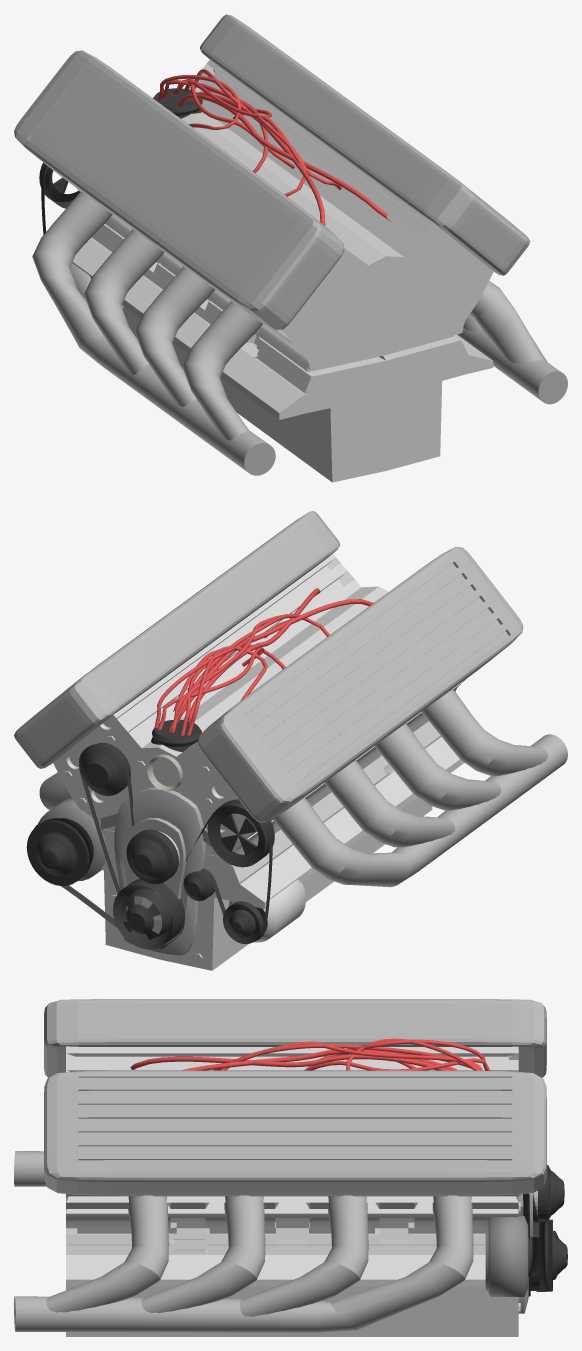
Rendered from Engine.fbx.
The picture shows the model from 3 angles, top to bottom: view 1: azimuth 30°, elevation 25°; view 2: azimuth 150°, elevation 25°; view 3: azimuth 270°, elevation 25°; orthographic projection. The views are drawn at different scales.
Parts seen in each view (by area): view 1: Cylinder.009, Cube.002, Cylinder.008, Cube.003, Cylinder.037, Cylinder.016, Cylinder, Cylinder.010; view 2: Cube.002, Cylinder.009, Cylinder.008, Cube.003, Cube, Cylinder.016, Cylinder.002, Cylinder.012, Cylinder, Cylinder.003, Cylinder.004, Curve.001 (+6 smaller); view 3: Cube.003, Cylinder.009, Cylinder.037, Cube.002, Cylinder.016, Cylinder.001, Cylinder.012, Cylinder.008, Cylinder.003.
Boxes of the visible parts, bbox=[...] form: Cylinder.009: bbox=[72, 60, 493, 482]; Cube.002: bbox=[14, 50, 344, 330]; Cylinder.008: bbox=[32, 191, 275, 475]; Cube.003: bbox=[200, 14, 530, 275]; Cylinder.037: bbox=[457, 281, 567, 404]; Cylinder.016: bbox=[157, 69, 390, 225]; Cylinder: bbox=[39, 162, 79, 208]; Cylinder.010: bbox=[153, 88, 202, 118]; Cube.002: bbox=[197, 546, 523, 822]; Cylinder.009: bbox=[53, 553, 465, 970]; Cylinder.008: bbox=[273, 689, 567, 887]; Cube.003: bbox=[14, 511, 339, 768]; Cube: bbox=[114, 787, 205, 955]; Cylinder.016: bbox=[154, 588, 373, 735]; Cylinder.002: bbox=[113, 878, 184, 949]; Cylinder.012: bbox=[26, 818, 93, 885]; Cylinder: bbox=[207, 799, 274, 867]; Cylinder.003: bbox=[126, 829, 178, 883]; Cylinder.004: bbox=[80, 743, 130, 795]; Curve.001: bbox=[79, 744, 272, 947]; Cube.003: bbox=[44, 1070, 546, 1195]; Cylinder.009: bbox=[66, 1046, 518, 1336]; Cylinder.037: bbox=[14, 1195, 473, 1332]; Cube.002: bbox=[44, 999, 546, 1077]; Cylinder.016: bbox=[130, 1038, 490, 1070]; Cylinder.001: bbox=[485, 1216, 528, 1296]; Cylinder.012: bbox=[528, 1221, 567, 1291]; Cylinder.008: bbox=[14, 1151, 46, 1186]; Cylinder.003: bbox=[538, 1165, 564, 1221].
Size of the model in its own units: 775 by 617 by 1123.
